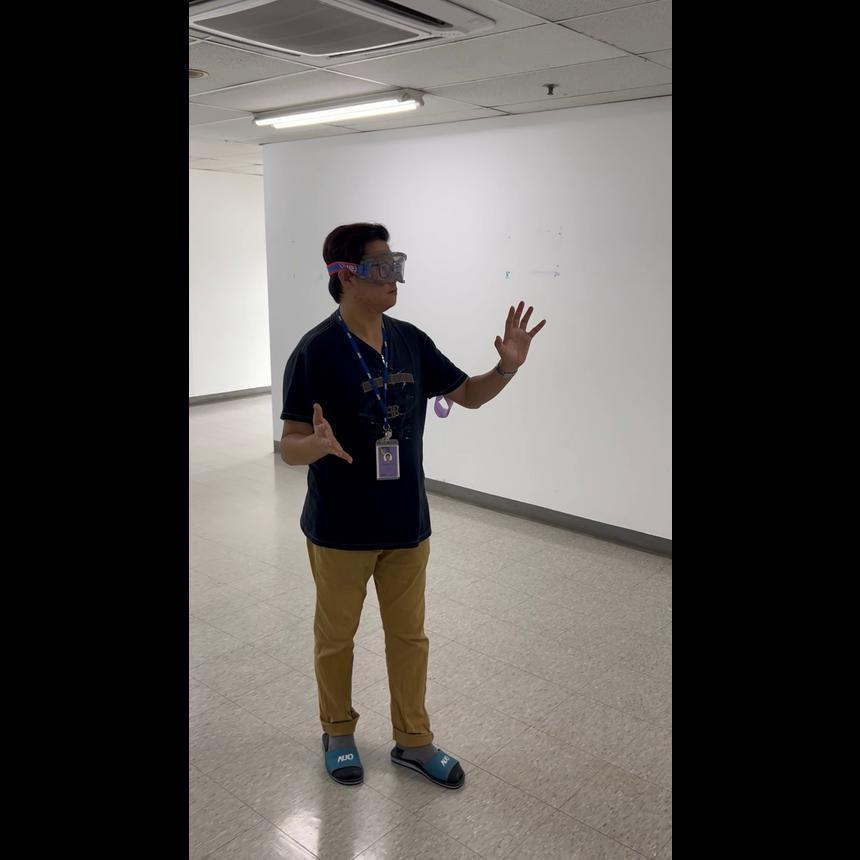No-gloves: (490, 291, 543, 373), (296, 400, 346, 464)
